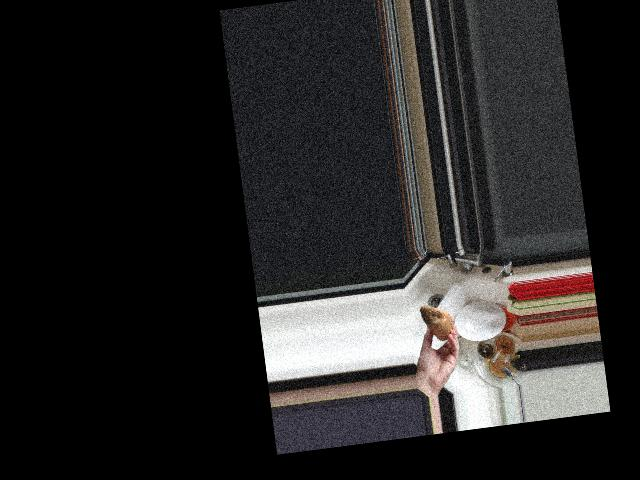sweet_potato: (416, 301, 456, 343)
